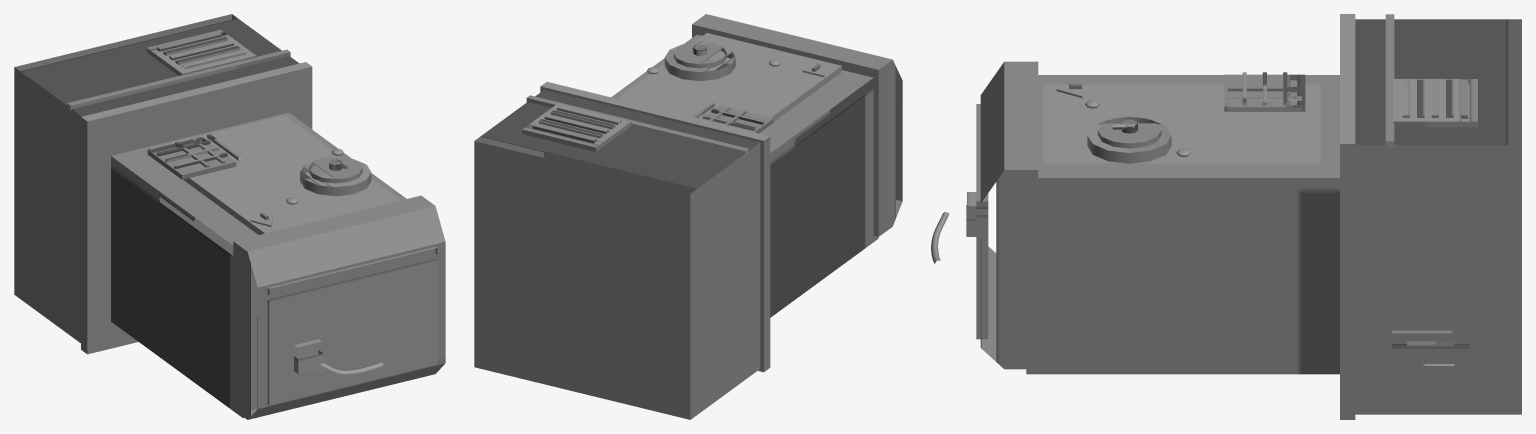
The picture shows the model from 3 angles, left to right: view 1: azimuth 30°, elevation 25°; view 2: azimuth 150°, elevation 25°; view 3: azimuth 270°, elevation 25°; orthographic projection. The views are drawn at different scales.
Size of the model in its own units: 0.929 by 0.919 by 1.75.
